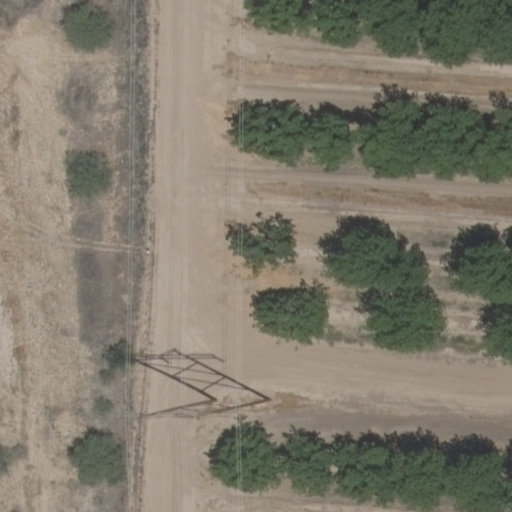TT: (130, 351, 274, 405)
